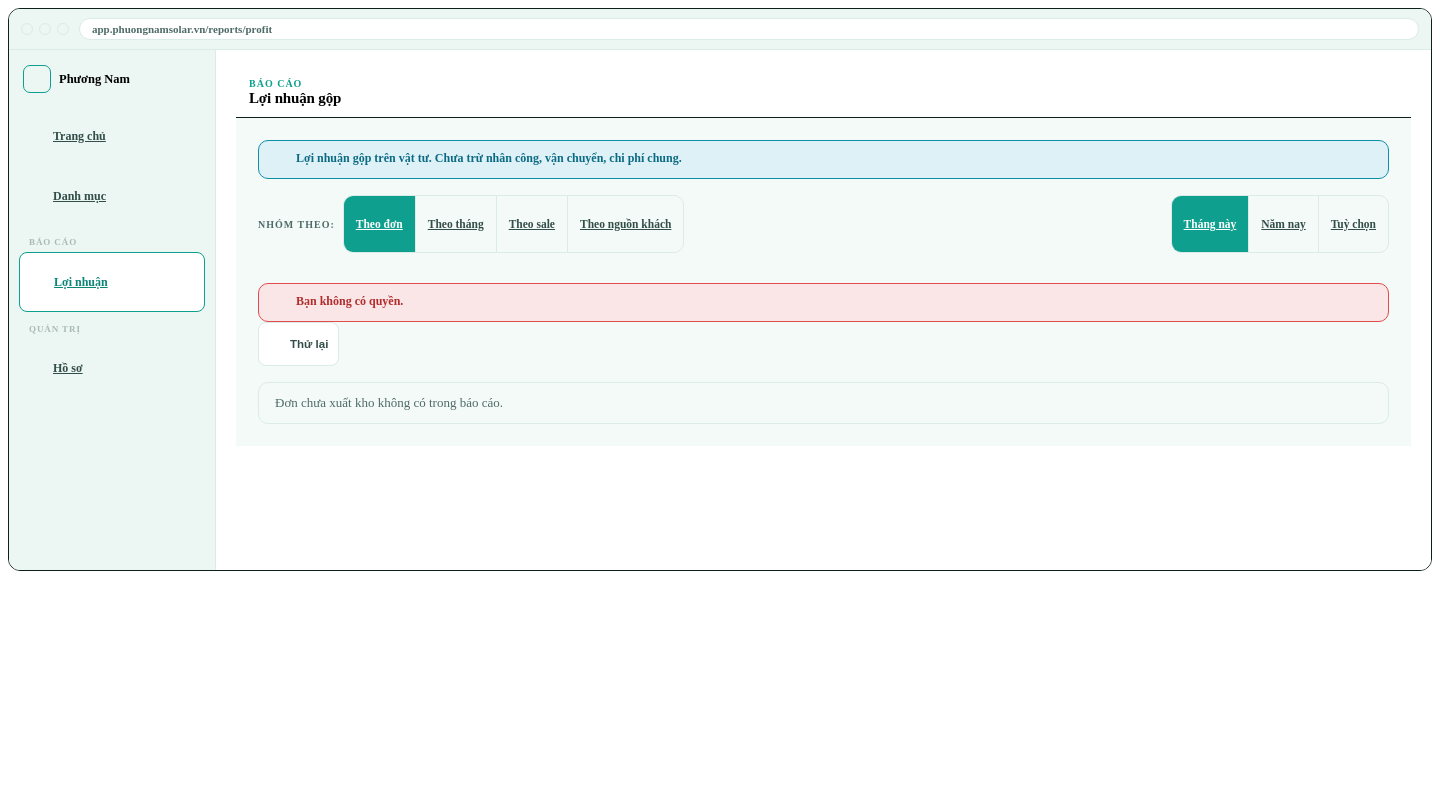
Test case: ProfitReportScreen › a failure shows the backend sentence and Thử lại loads again
Check: the text "Bạn không có quyền." is shown, box [258,283,1389,322]
Step 1. Click the button "Thử lại" → (299, 344), box [258,322,339,366]
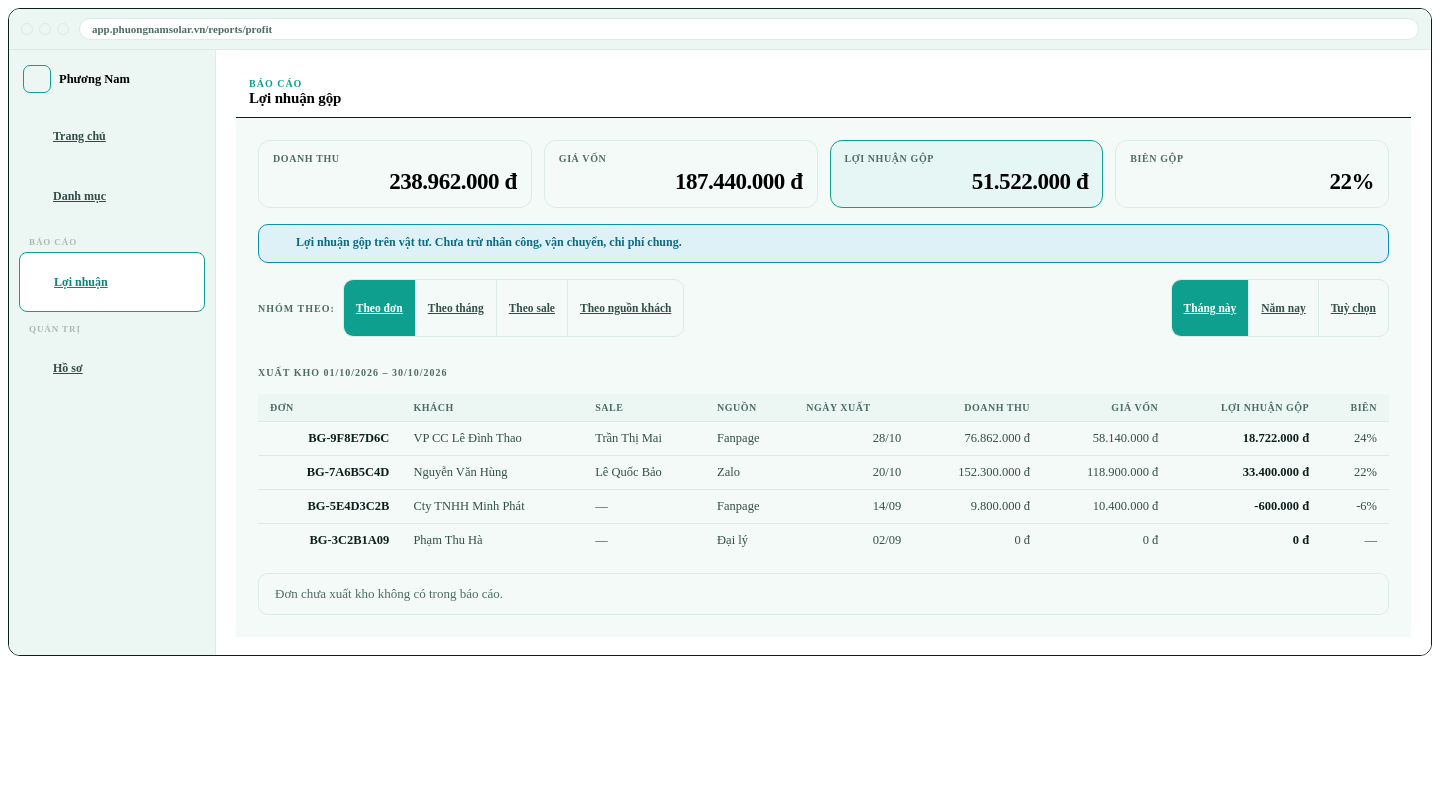
Check: the text "BG-9F8E7D6C" is shown, box [258,422,401,456]
